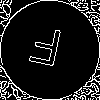F: (25, 25, 65, 76)
